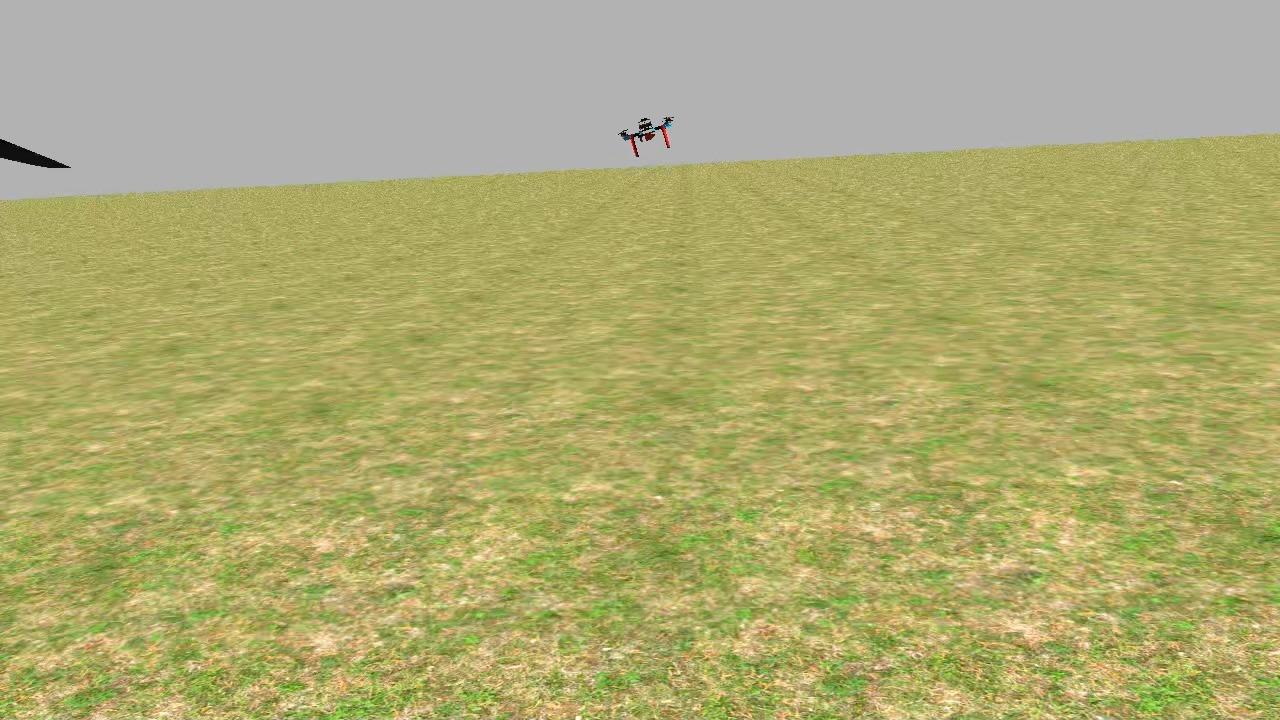UAV: (606, 108, 691, 160)
